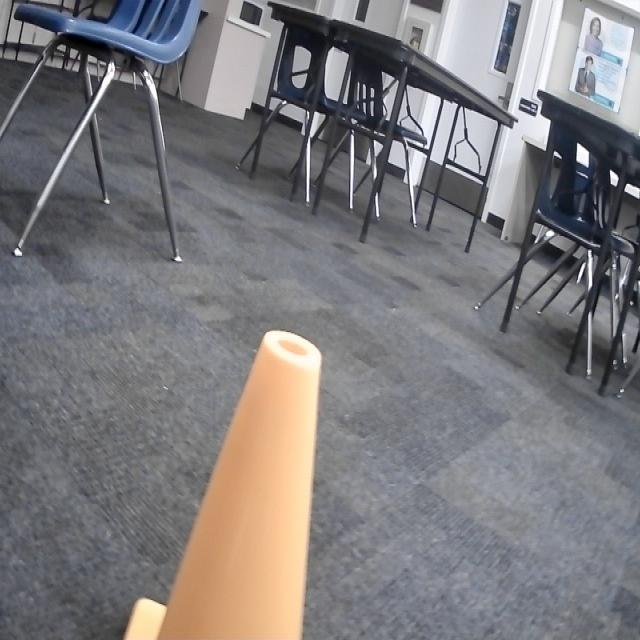cone: (124, 326, 324, 640)
